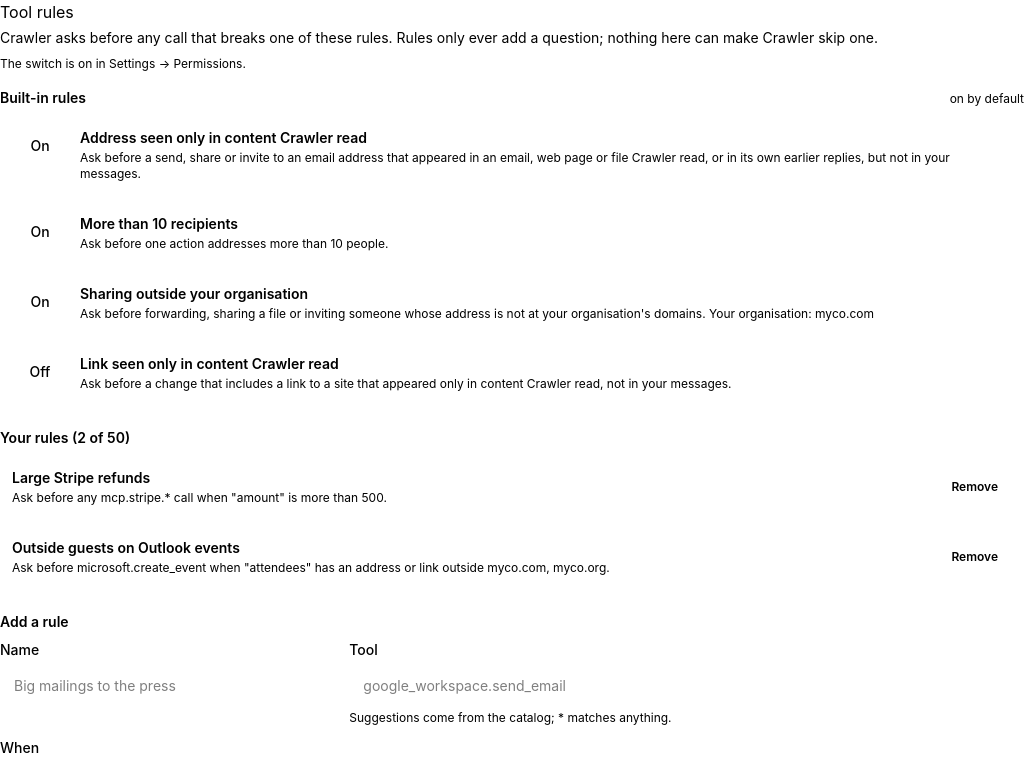
Scenario: ToolRulesTab › keeps a built-in rule on when turning it off fails, with the reason in the dialog
expect the heading "Built-in rules" is shown: met, box [0,88,86,108]
Click the switch named "More than 10 recipients" at (40, 232), box [12,214,68,250]
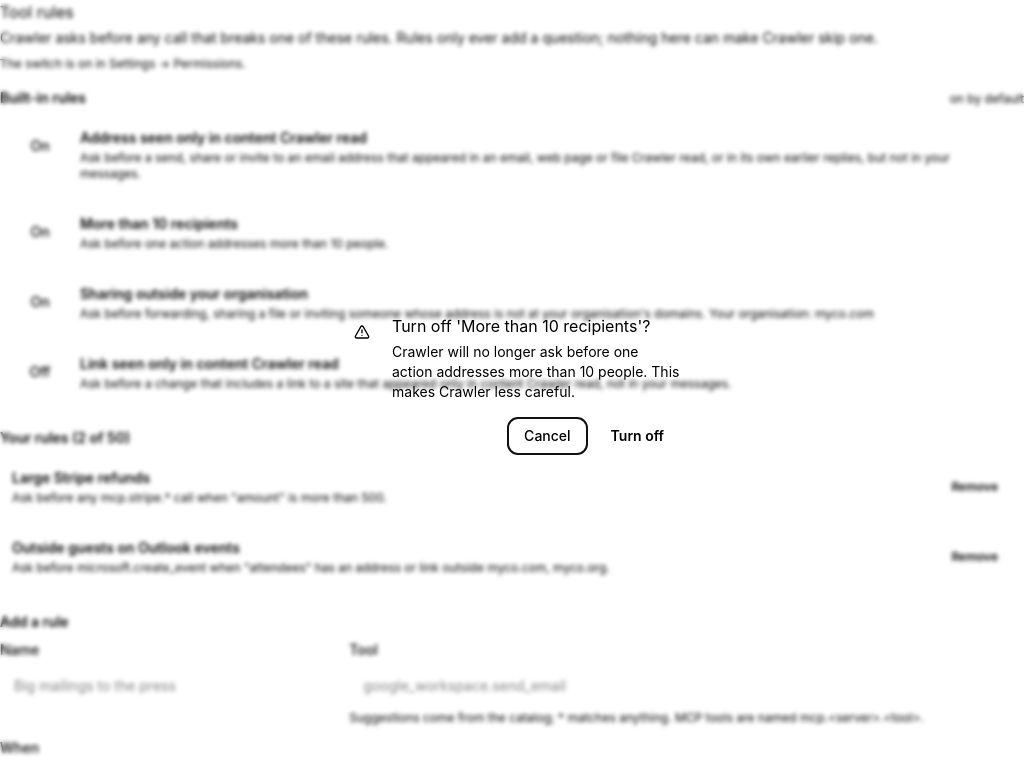
Click the button "Turn off" at (637, 436), box [595,418,680,454]
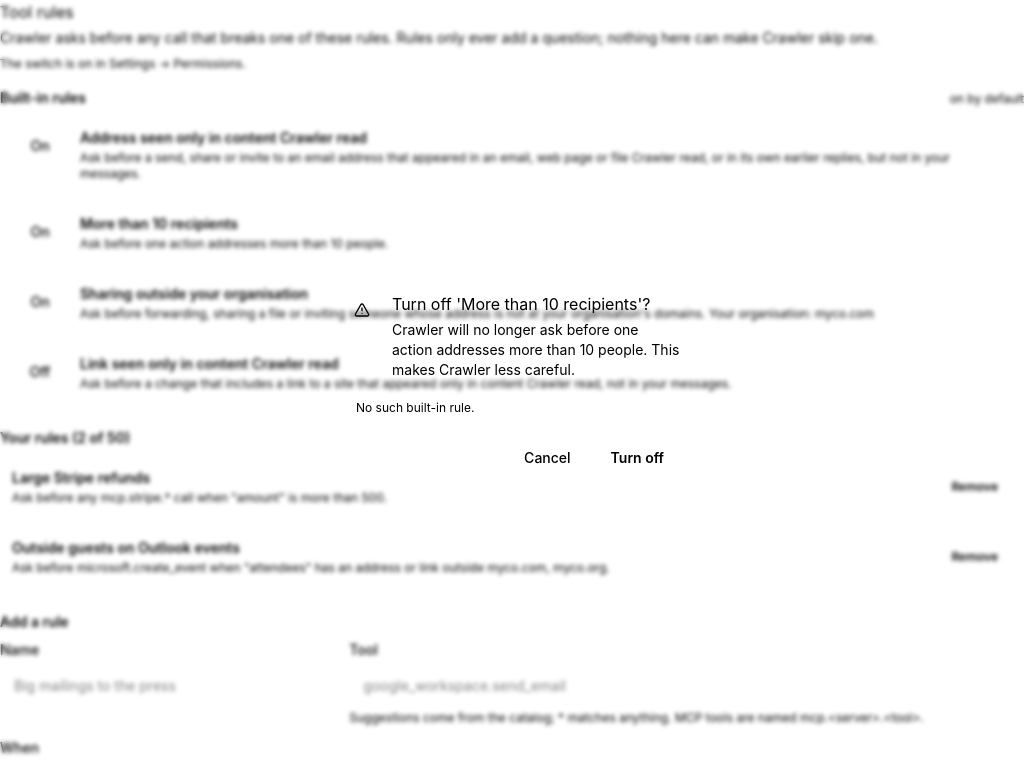
expect the text "No such built-in rule." is shown: met, box [356,400,474,415]
